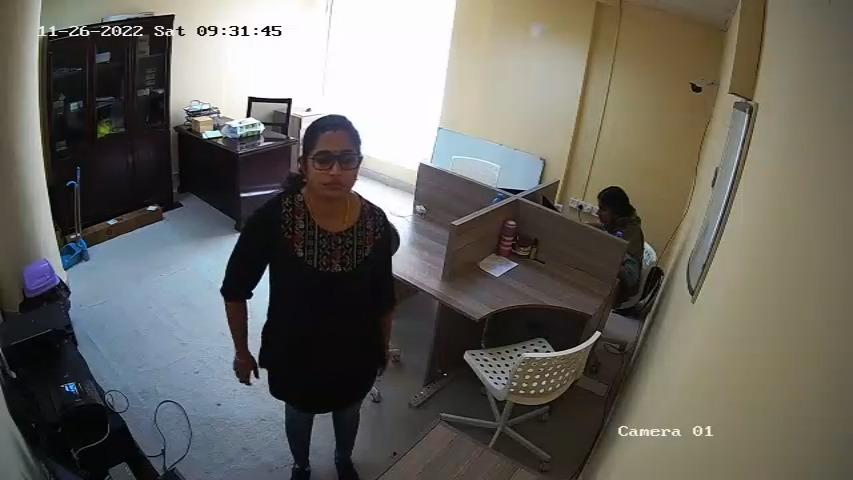no_apron: (280, 203, 375, 393)
